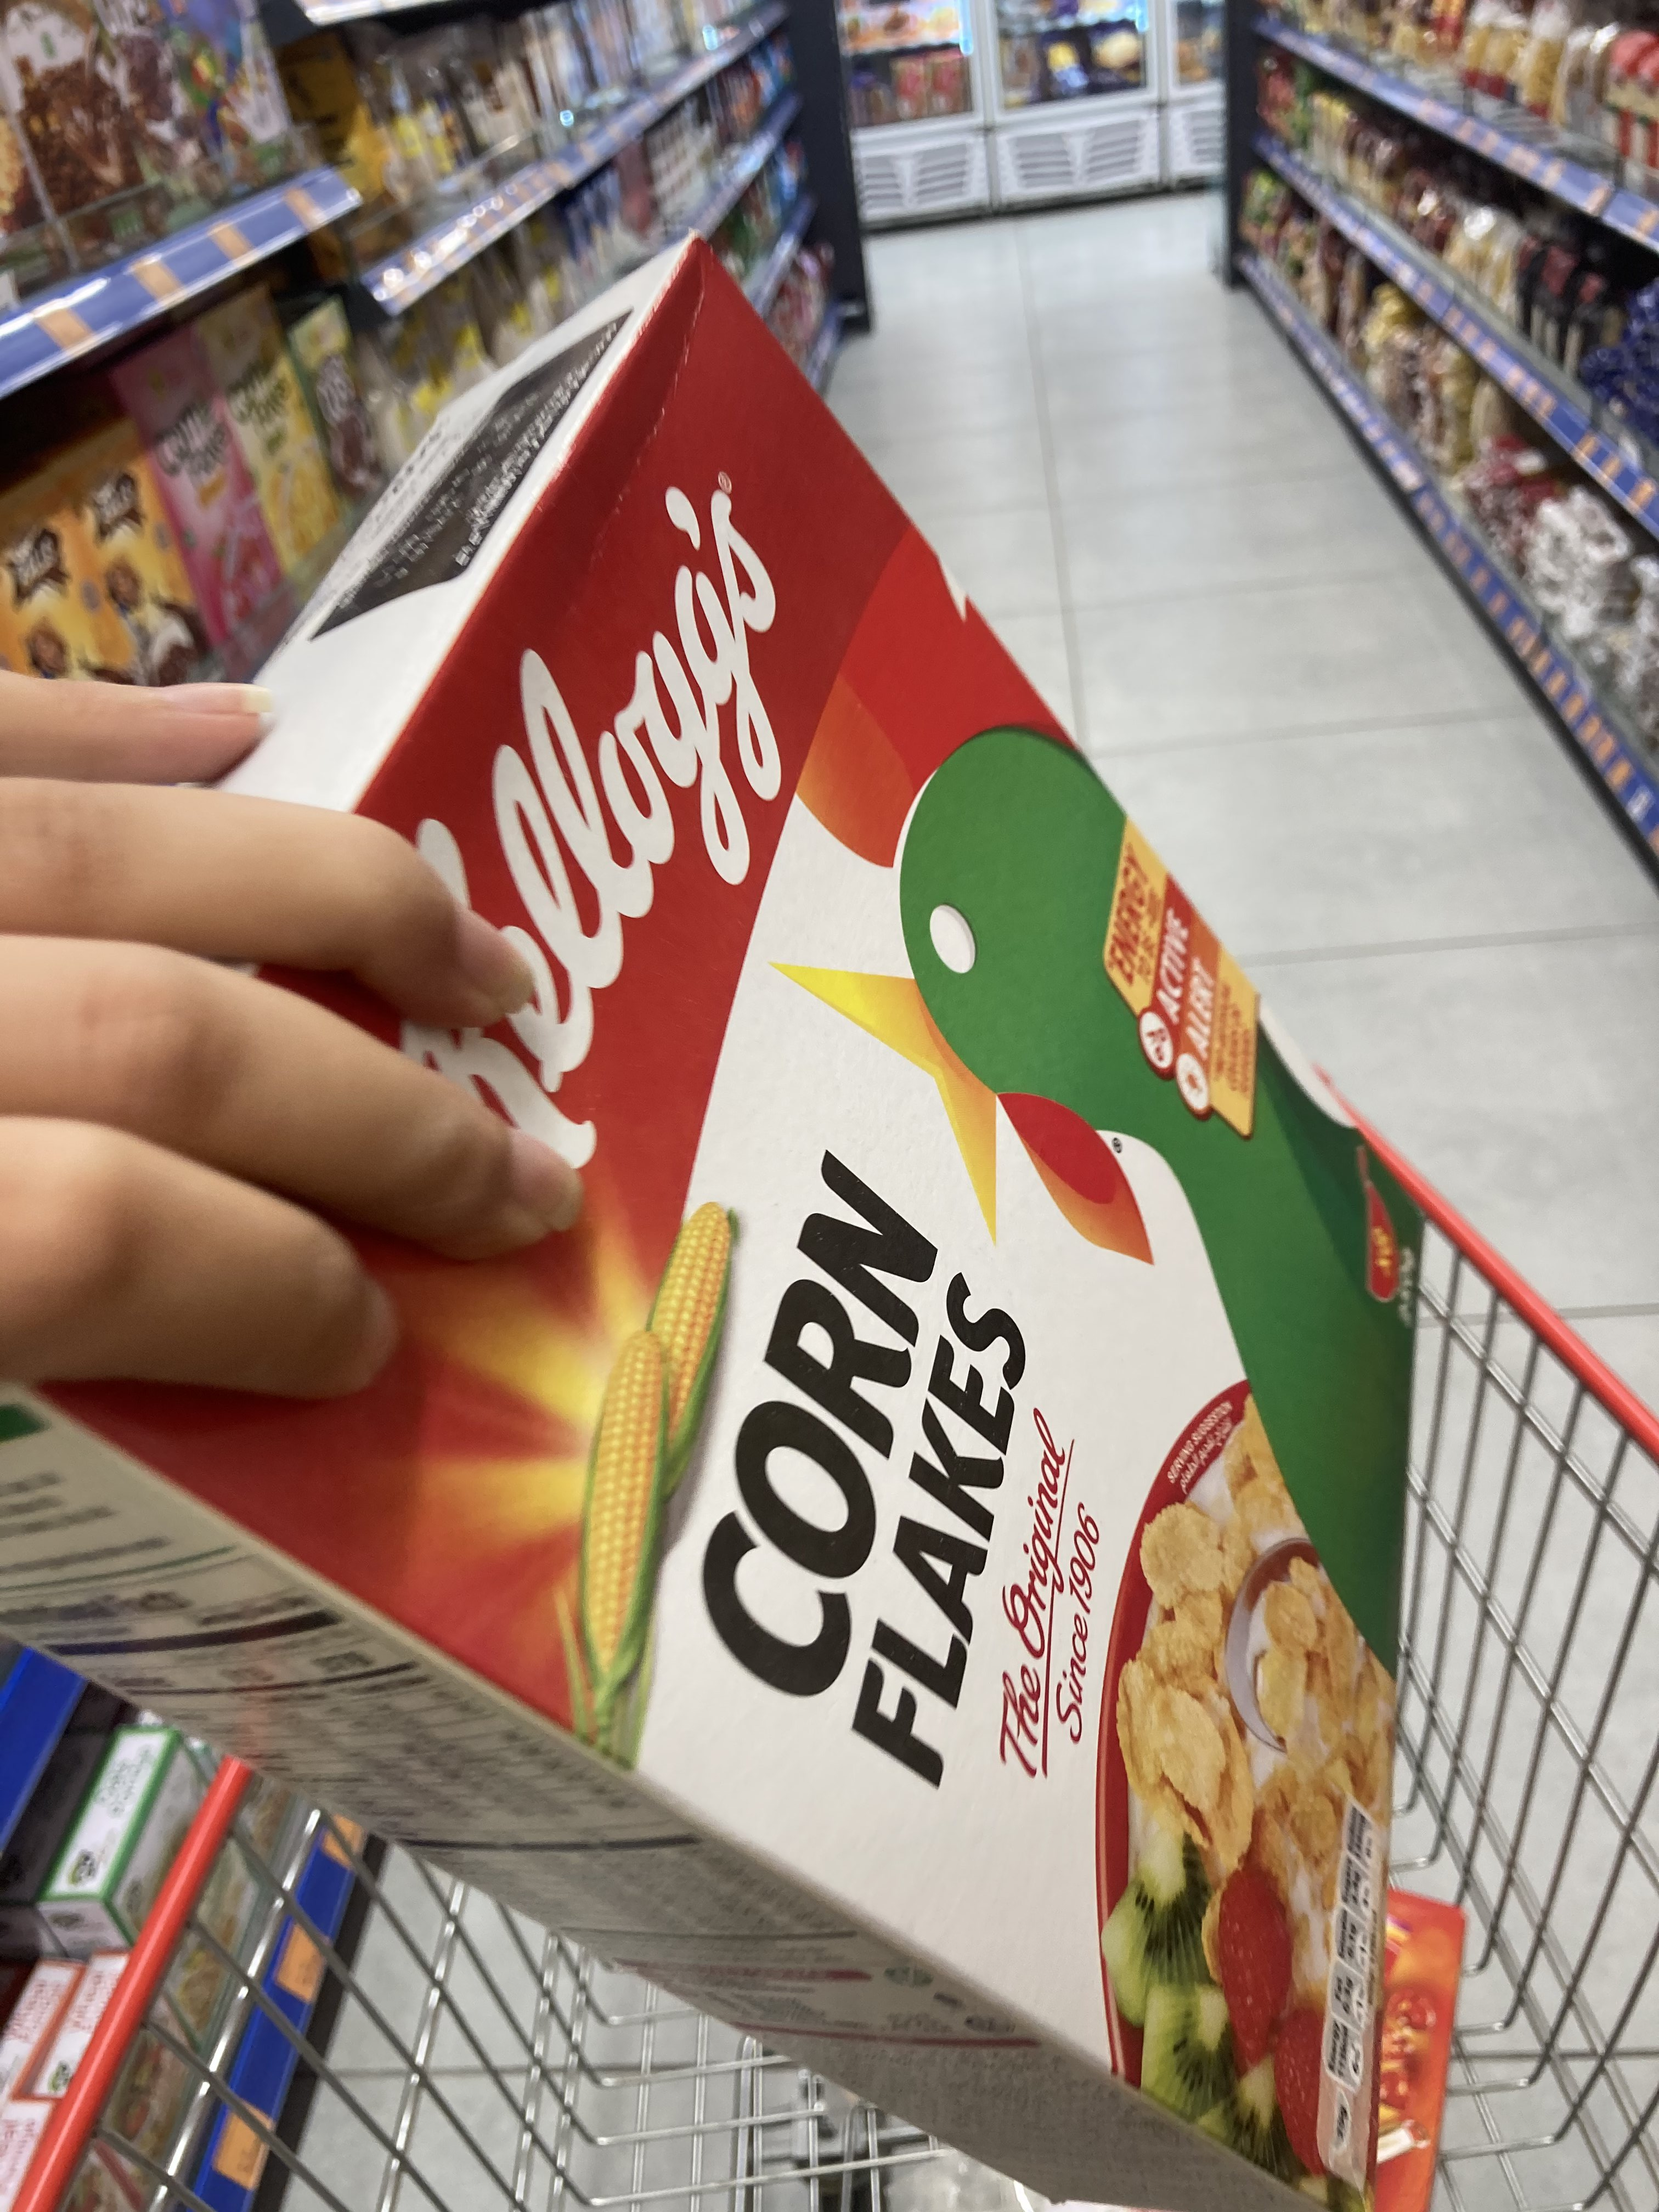Kellogg's Corn Flakes: (12, 228, 1424, 2212)
